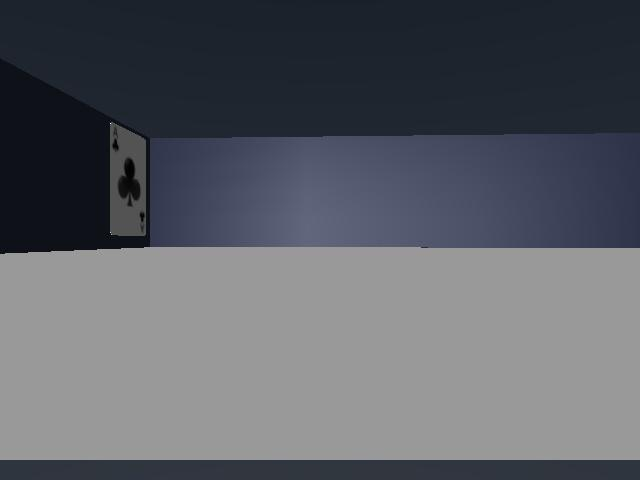club: (110, 123, 146, 235)
